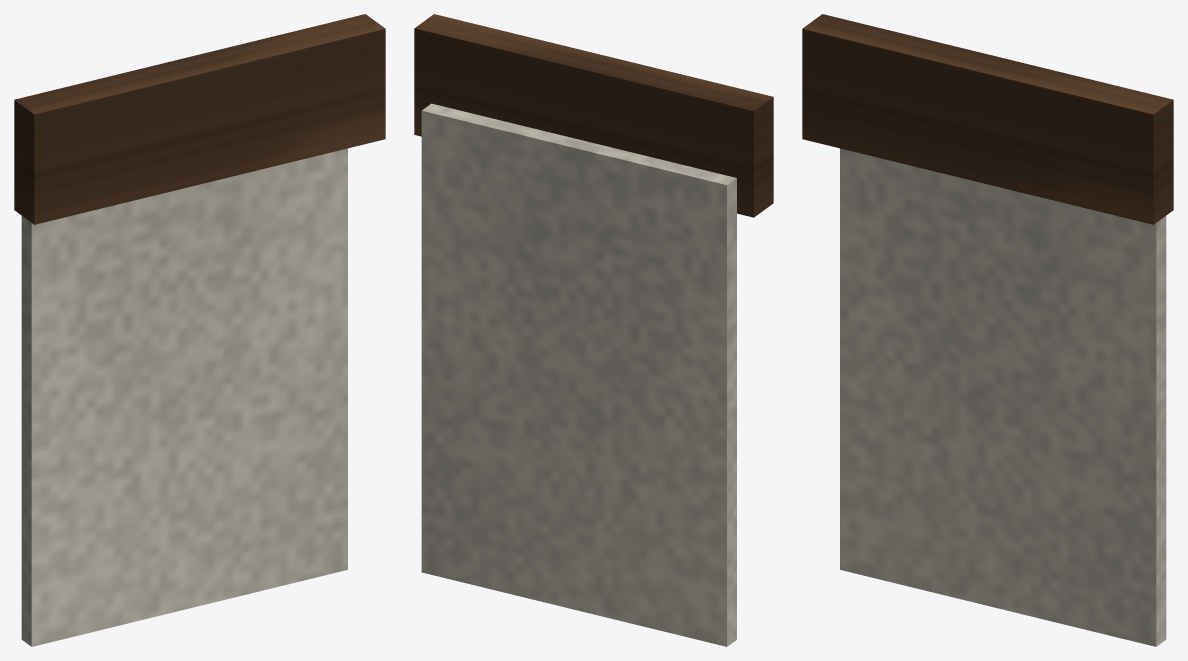
The model's file is wall_calendar.fbx.
3 views of the same model, side by side, from view 1: azimuth 30°, elevation 25°; view 2: azimuth 150°, elevation 25°; view 3: azimuth 330°, elevation 25° (orthographic). The views are drawn at different scales.
Visible parts, largest first — view 1: wall_calendar; view 2: wall_calendar; view 3: wall_calendar.
Part boxes in pixels (bbox=[...]): wall_calendar: bbox=[14, 14, 385, 646]; wall_calendar: bbox=[414, 14, 773, 646]; wall_calendar: bbox=[802, 14, 1173, 646].
Bounding box in the file's own units: 20 × 30 × 3.
